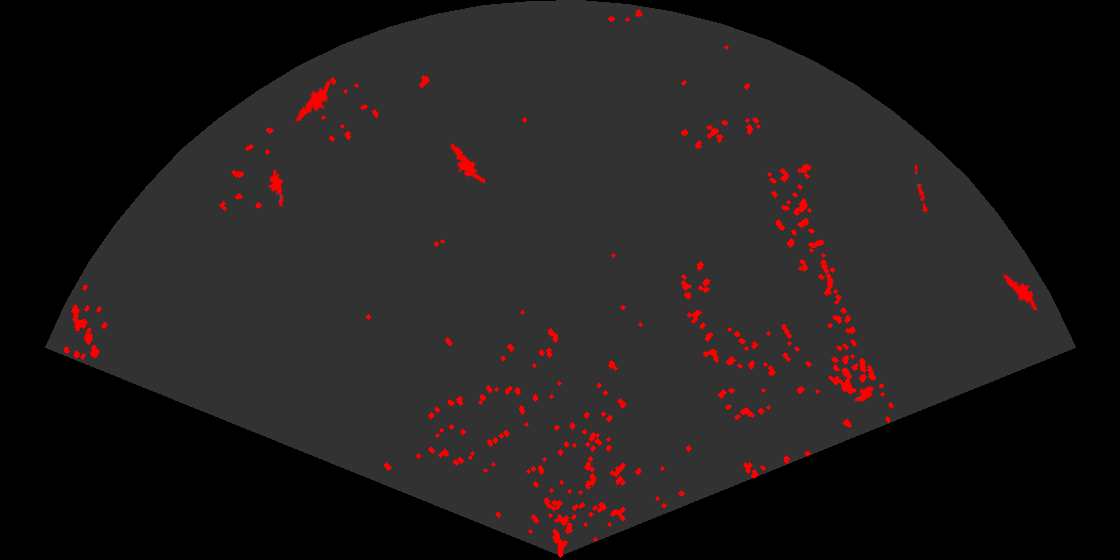AUV: (853, 384, 876, 403)
chain: (913, 162, 929, 214)
frogman: (293, 81, 333, 130), (445, 141, 485, 184), (1000, 266, 1039, 310), (266, 170, 285, 207)
